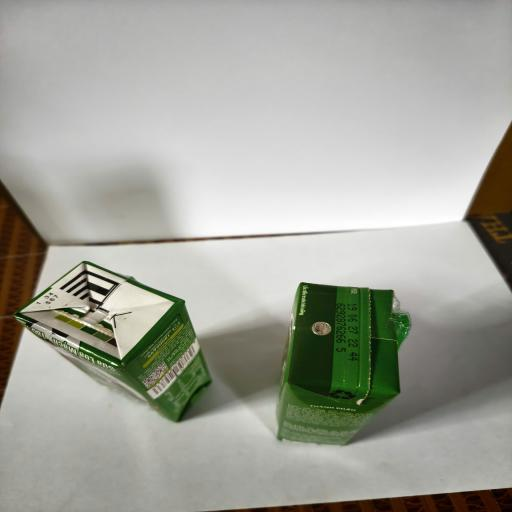milo: (14, 260, 212, 422), (276, 282, 412, 446)
